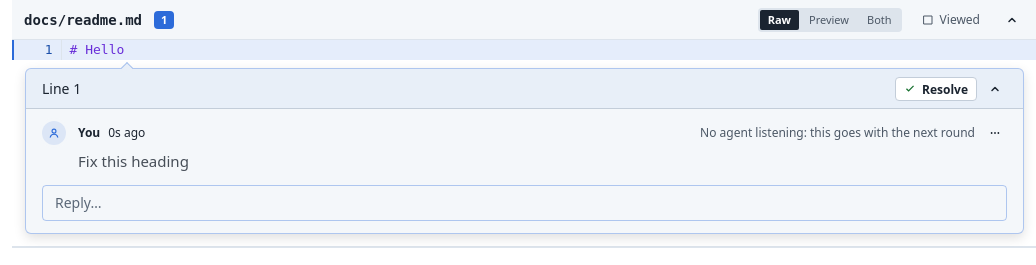
Test: how a markdown file is shown › says in the preview that comments are on the raw text
The width and height of the screenshot is (1036, 265).
Click the button with test id "view-mode-preview" at coordinates (829, 20), box [801,10,857,30]
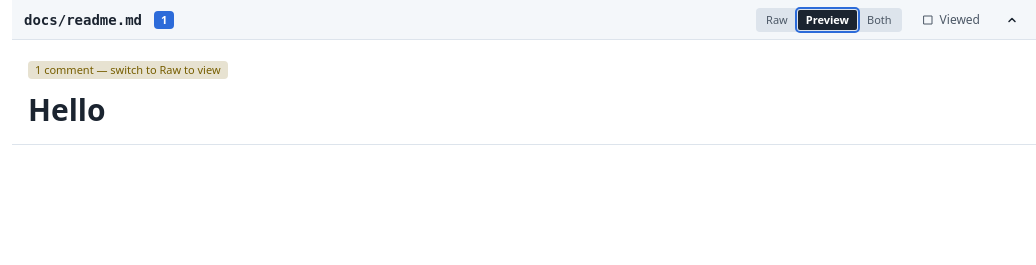
Expected: the text with test id "preview-comment-badge" shows "1 comment", [35,62,221,77]
Expected: the text with test id "preview-comment-badge" shows "switch to Raw", [35,62,221,77]
